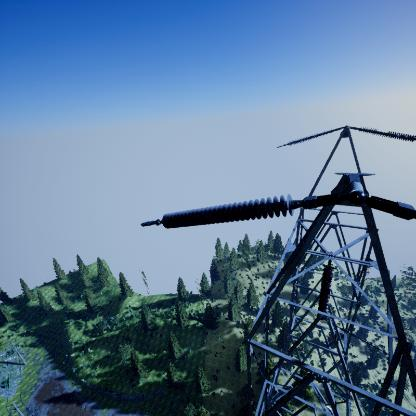insulator: (161, 194, 297, 231), (280, 123, 346, 147), (348, 124, 416, 147), (317, 264, 336, 322)
